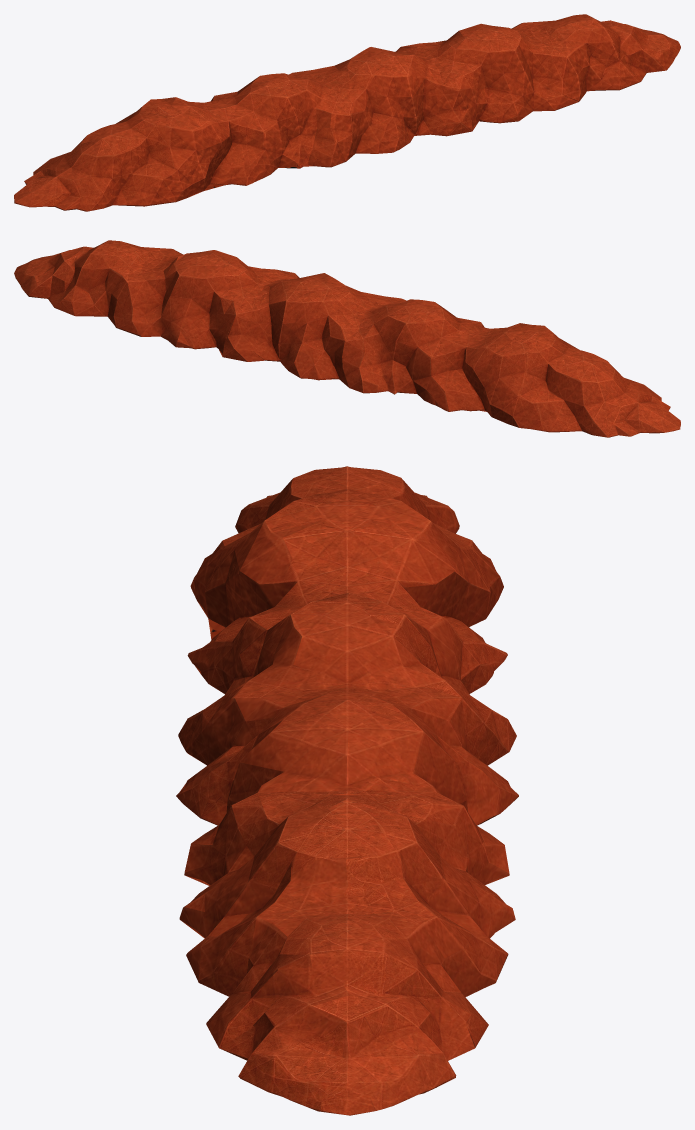
Rendered from desert_ridge_3.glb.
The picture shows the model from 3 angles, top to bottom: view 1: azimuth 30°, elevation 25°; view 2: azimuth 150°, elevation 25°; view 3: azimuth 270°, elevation 25°; orthographic projection. The views are drawn at different scales.
Parts seen in each view (by area): view 1: output_unwrapped; view 2: output_unwrapped; view 3: output_unwrapped.
Part boxes in pixels (<box>): output_unwrapped: <box>14,14,680,211</box>; output_unwrapped: <box>14,240,680,437</box>; output_unwrapped: <box>176,466,518,1115</box>.
Bounding box in the file's own units: 1.9 × 0.1539 × 0.4258.
Materials: 1 (1 with a texture image).
